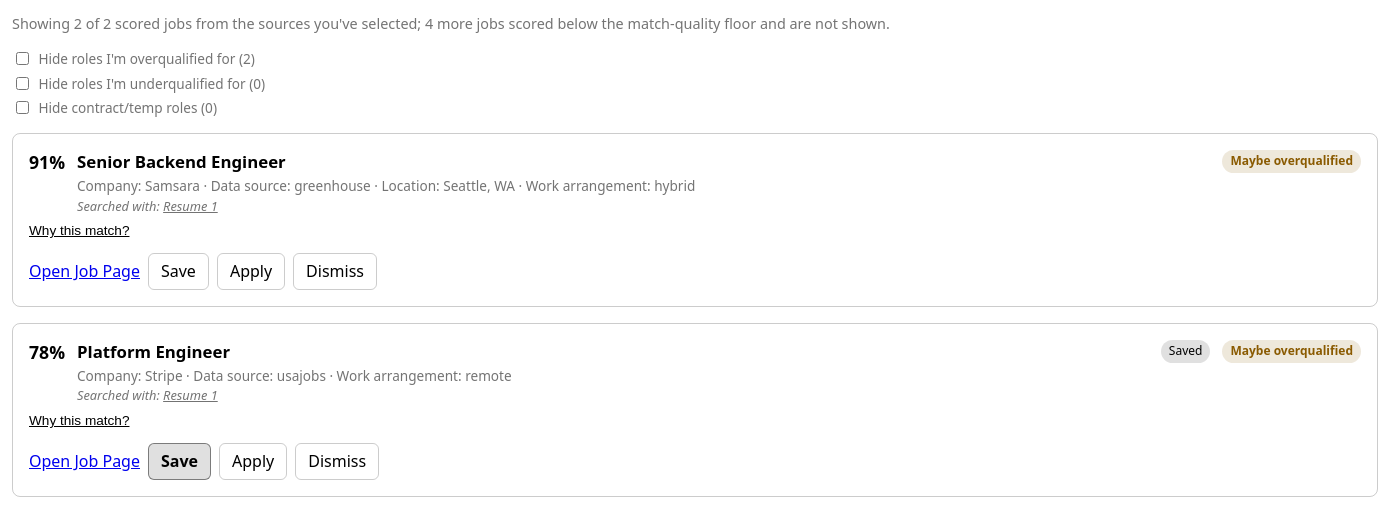
Test: ResultsList — "Hide roles I'm overqualified for" filter (ticket b182bde) › shows a level-filter-specific empty state (not the generic source-selection one) when every source-visible job is above level and the checkbox is checked (ticke
Click the checkbox labelled "Hide roles I'm overqualified for (2)".
click(22, 58)  # box left=16, top=52, right=29, bottom=65
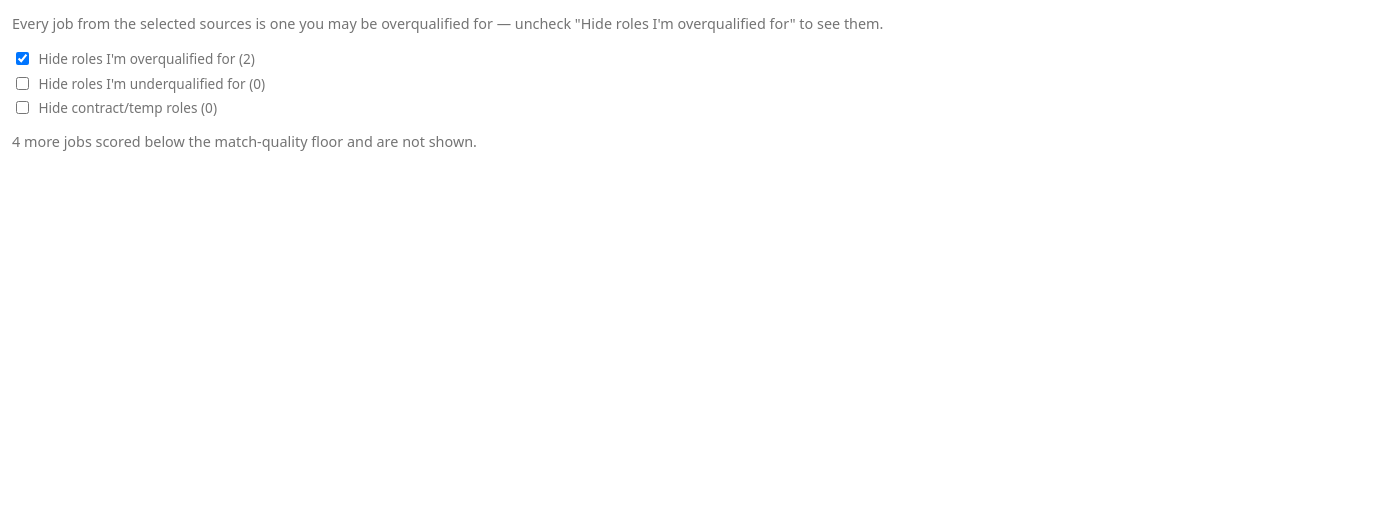
Expected: the heading "Senior Backend Engineer" is gone
Expected: the heading "Platform Engineer" is gone
Expected: the text "Every job from the selected sources is one you may be overqualified for — uncheck \"Hide roles I'm overqualified for\" to " is shown, left=12, top=14, right=883, bottom=33
